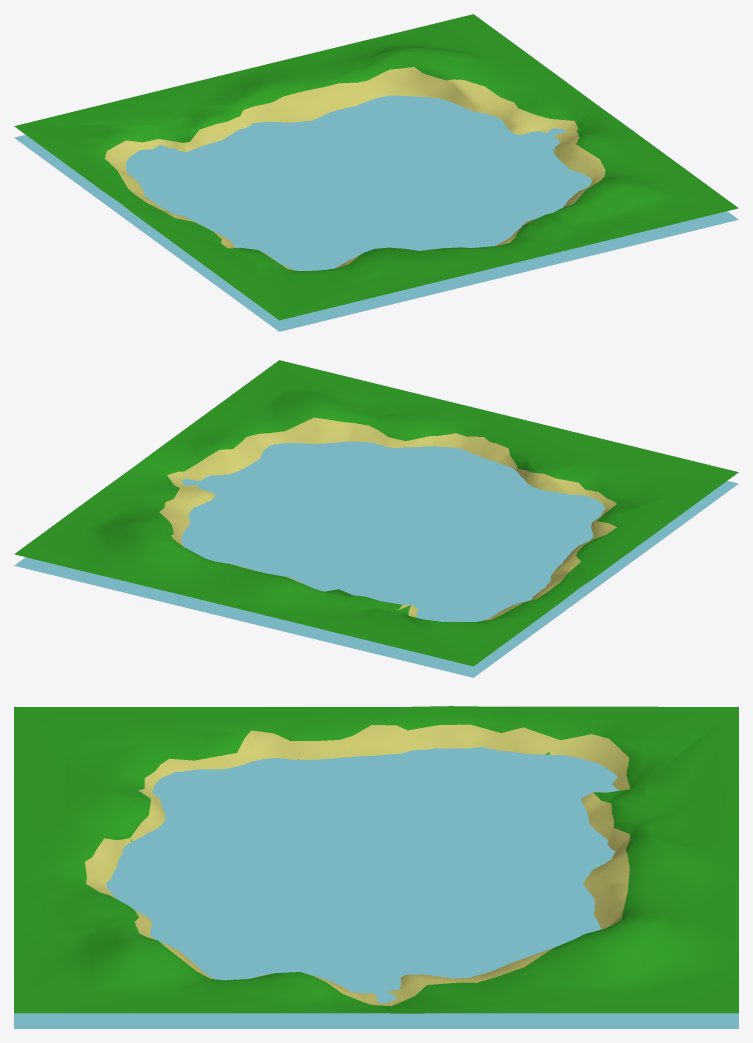
File: TERRENO.fbx
The picture shows the model from 3 angles, top to bottom: view 1: azimuth 30°, elevation 25°; view 2: azimuth 150°, elevation 25°; view 3: azimuth 270°, elevation 25°; orthographic projection. The views are drawn at different scales.
Visible parts, largest first — view 1: Landscape.001; view 2: Landscape.001; view 3: Landscape.001.
Boxes of the visible parts, x1,y1,x2,y2 form: Landscape.001: [14, 14, 738, 331]; Landscape.001: [14, 360, 738, 677]; Landscape.001: [14, 706, 738, 1028].
Bounding box in the file's own units: 200 × 32.9 × 200.
